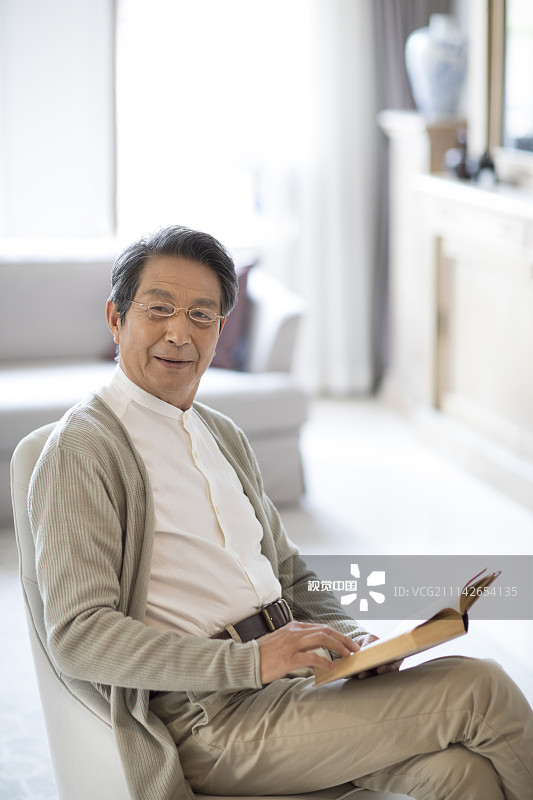no-phone: (240, 604, 376, 693)
